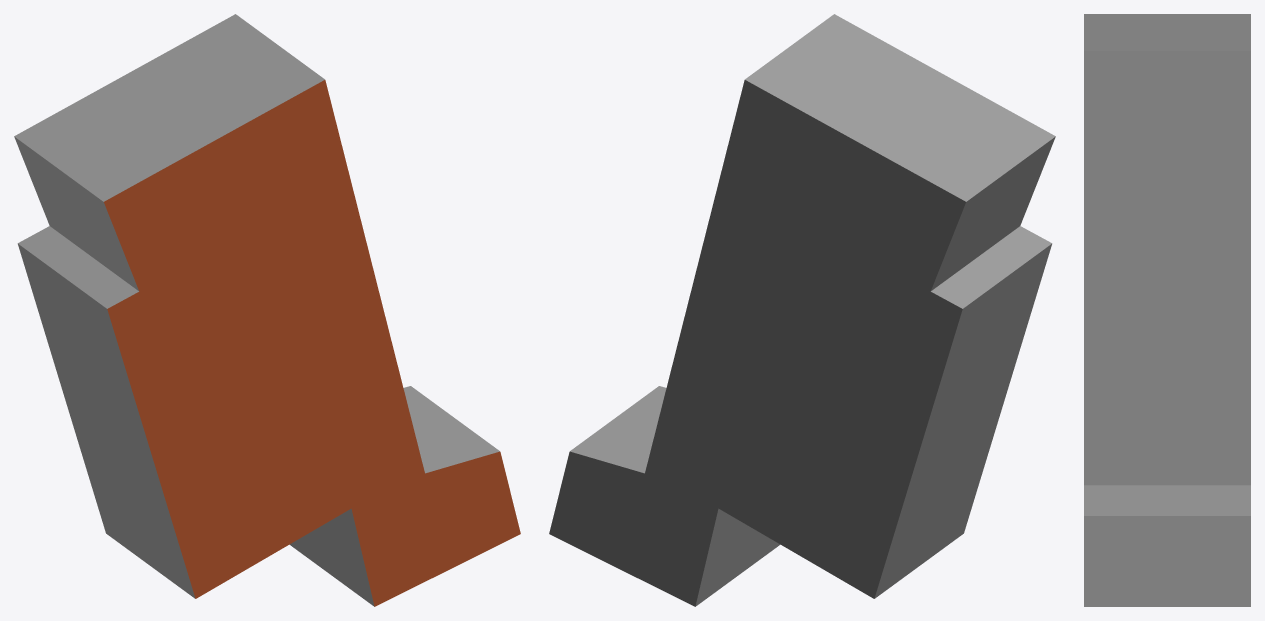
Rendered from construction_4760_assumed_A_Casa_h6m.obj.
The picture shows the model from 3 angles, left to right: view 1: azimuth 30°, elevation 25°; view 2: azimuth 150°, elevation 25°; view 3: azimuth 270°, elevation 25°; orthographic projection. The views are drawn at different scales.
Visible parts, largest first — view 1: construction_4760_assumed_A_Casa; view 2: construction_4760_assumed_A_Casa; view 3: construction_4760_assumed_A_Casa.
Part boxes in pixels (x1,y1,x2,y2): construction_4760_assumed_A_Casa: (14,14,520,606); construction_4760_assumed_A_Casa: (549,14,1055,606); construction_4760_assumed_A_Casa: (1084,14,1250,606).
Bounding box in the file's own units: 16.13 × 19.92 × 6.
